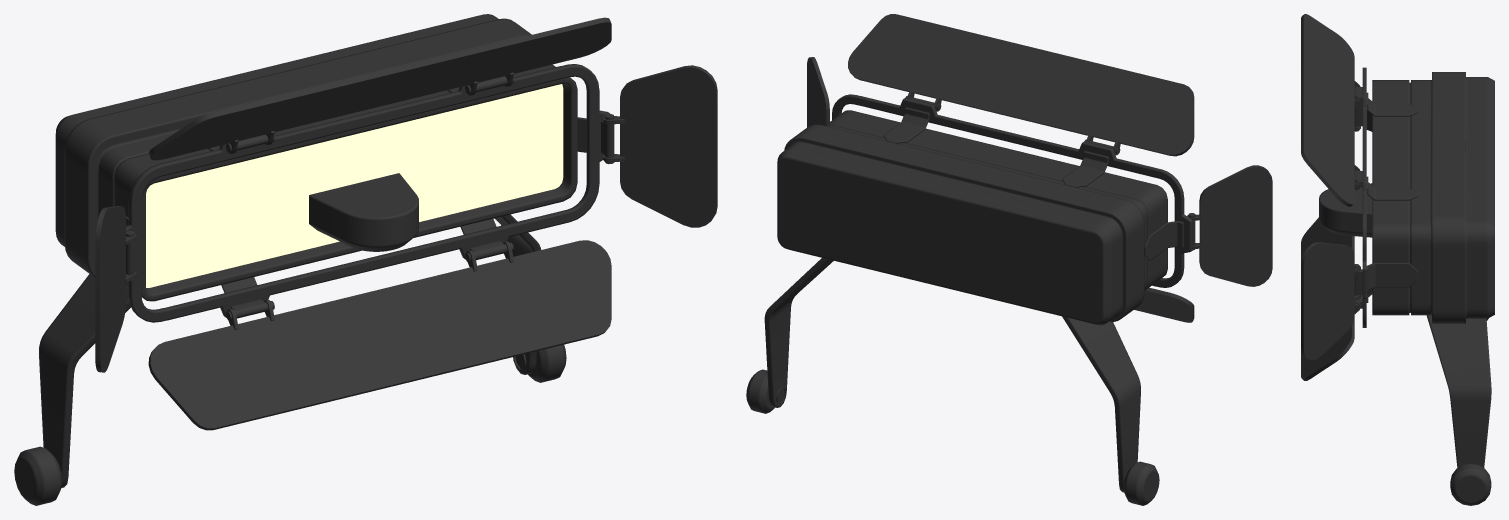
The model's file is SpotLight1.fbx.
3 views of the same model, side by side, from view 1: azimuth 30°, elevation 25°; view 2: azimuth 150°, elevation 25°; view 3: azimuth 270°, elevation 25° (orthographic). The views are drawn at different scales.
Visible parts, largest first — view 1: SM_SpotLight1_01, SM_SpotLight1_Base_01; view 2: SM_SpotLight1_01, SM_SpotLight1_Base_01; view 3: SM_SpotLight1_01, SM_SpotLight1_Base_01.
Boxes of the visible parts, left/top/right/bottom form: SM_SpotLight1_01: left=55, top=14, right=717, bottom=430; SM_SpotLight1_Base_01: left=14, top=173, right=566, bottom=505; SM_SpotLight1_01: left=777, top=14, right=1272, bottom=325; SM_SpotLight1_Base_01: left=746, top=258, right=1159, bottom=505; SM_SpotLight1_01: left=1301, top=14, right=1494, bottom=380; SM_SpotLight1_Base_01: left=1319, top=183, right=1491, bottom=505.
Bounding box in the file's own units: 62.16 × 43.9 × 23.29.
